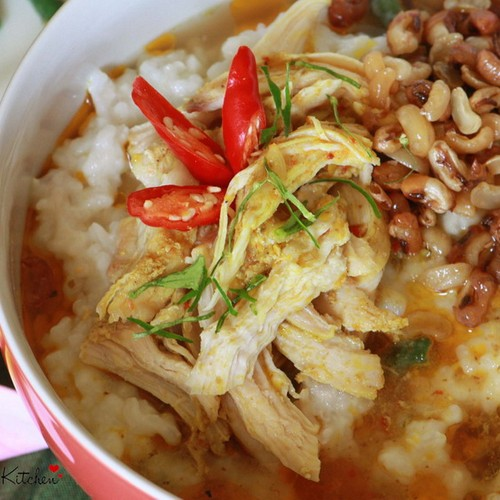bubur mengguh: (54, 40, 485, 491)
